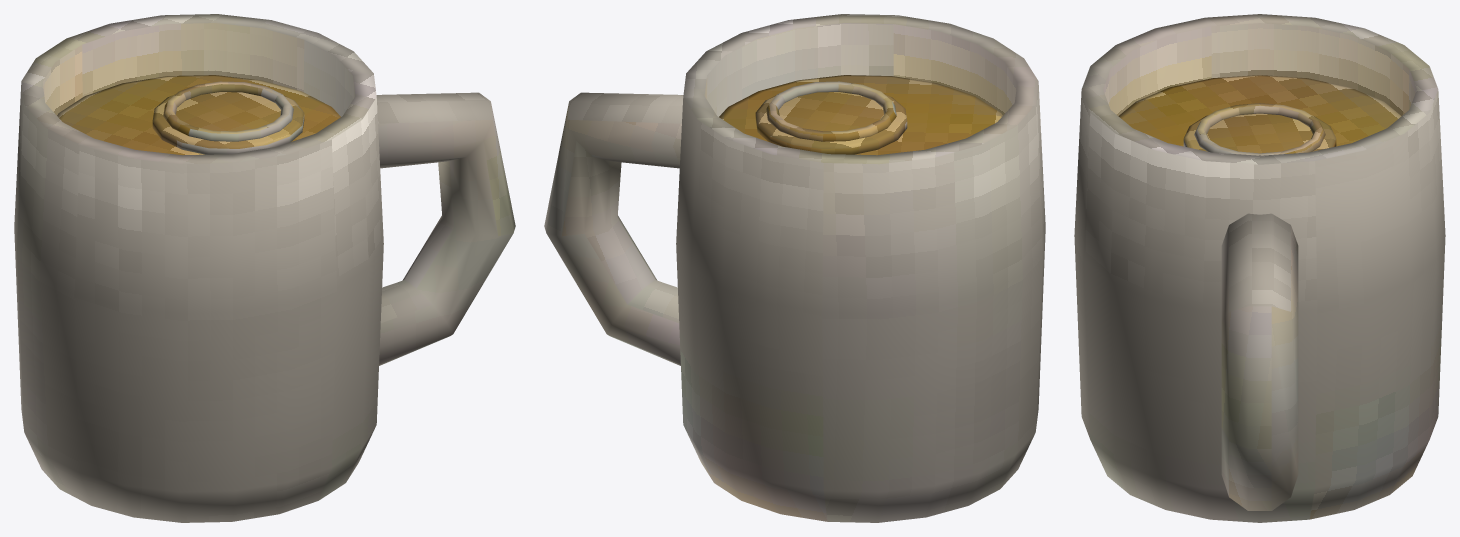
File: mug_yuzu.glb
3 views of the same model, side by side, from view 1: azimuth 30°, elevation 25°; view 2: azimuth 150°, elevation 25°; view 3: azimuth 270°, elevation 25° (orthographic).
Parts seen in each view (by area): view 1: prop_mug_yuzu_felt; view 2: prop_mug_yuzu_felt; view 3: prop_mug_yuzu_felt.
Part boxes in pixels (x1=…): prop_mug_yuzu_felt: x1=14, y1=14, x2=515, y2=522; prop_mug_yuzu_felt: x1=544, y1=14, x2=1045, y2=522; prop_mug_yuzu_felt: x1=1074, y1=14, x2=1445, y2=522.
Size of the model in its own units: 0.192 by 0.1425 by 0.131.
Materials: 1 (1 with a texture image).
